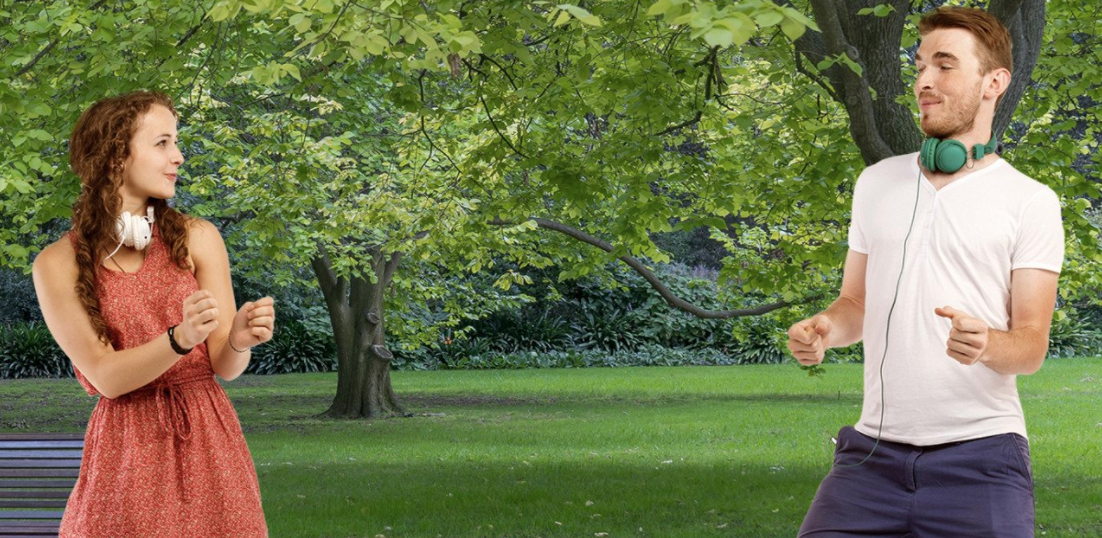Good: (23, 7, 1073, 538)
